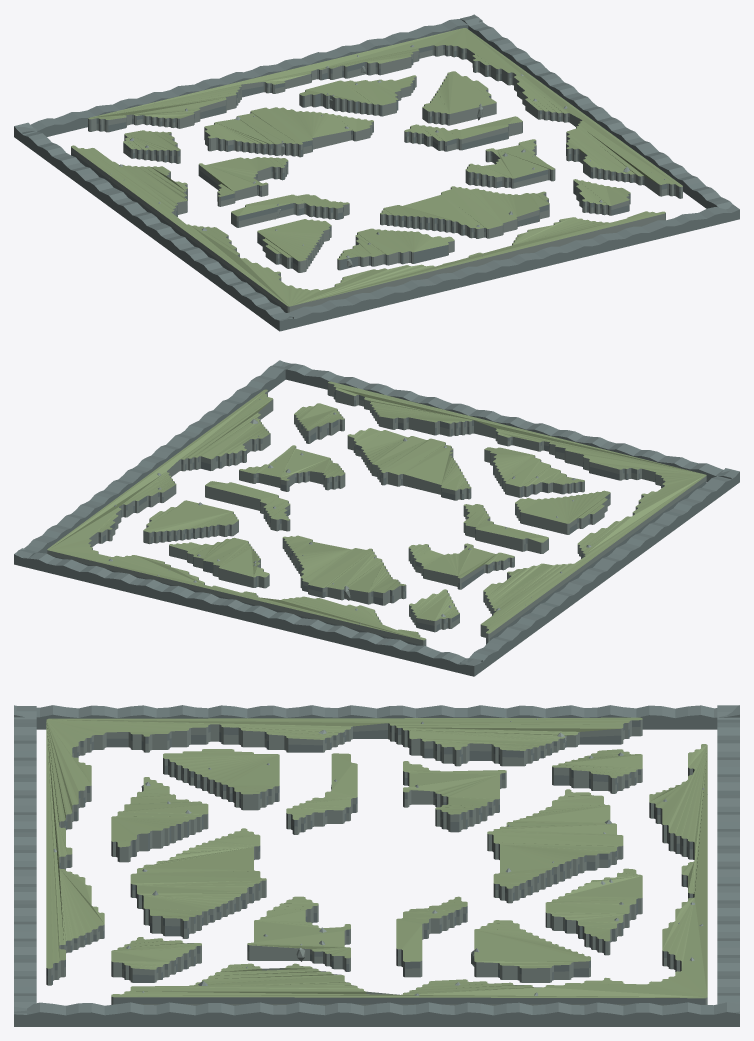
Rendered from SM_R01_Cliffs_and_Boundary.fbx.
3 renders of one model, top to bottom at view 1: azimuth 30°, elevation 25°; view 2: azimuth 150°, elevation 25°; view 3: azimuth 270°, elevation 25°, orthographic. The views are drawn at different scales.
Parts seen in each view (by area): view 1: SM_R01_Cliffs_and_Boundary; view 2: SM_R01_Cliffs_and_Boundary; view 3: SM_R01_Cliffs_and_Boundary.
Boxes of the visible parts, left/top/right/bottom form: SM_R01_Cliffs_and_Boundary: left=14, top=14, right=739, bottom=331; SM_R01_Cliffs_and_Boundary: left=14, top=360, right=739, bottom=676; SM_R01_Cliffs_and_Boundary: left=14, top=705, right=739, bottom=1026.
Bounding box in the file's own units: 11200 × 11200 × 394.
